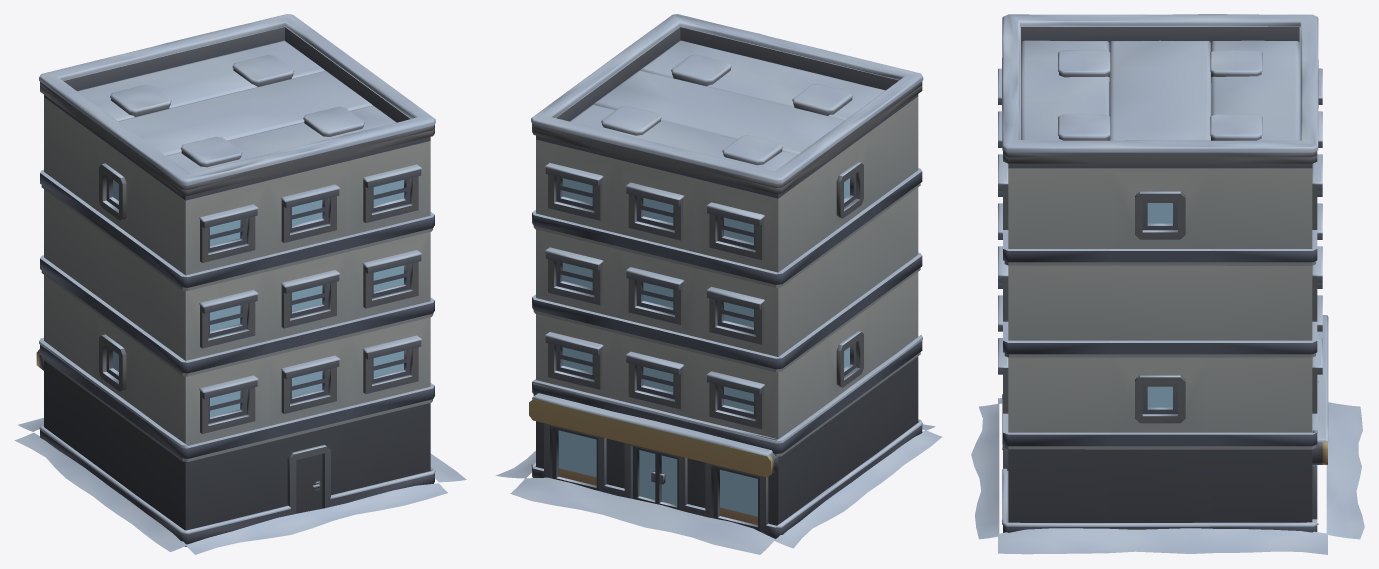
Rendered from bldg_i.glb.
3 renders of one model, left to right at view 1: azimuth 30°, elevation 25°; view 2: azimuth 150°, elevation 25°; view 3: azimuth 270°, elevation 25°, orthographic. The views are drawn at different scales.
Parts seen in each view (by area): view 1: Base, Roof; view 2: Base, Roof; view 3: Base, Roof.
Part boxes in pixels (x1=…): Base: x1=14, y1=31, x2=466, y2=554; Roof: x1=39, y1=14, x2=435, y2=189; Base: x1=495, y1=31, x2=942, y2=554; Roof: x1=531, y1=14, x2=923, y2=187; Base: x1=971, y1=32, x2=1364, y2=554; Roof: x1=1002, y1=14, x2=1318, y2=157.
Size of what is drawn, in the model's own units: 14.03 by 16.36 by 14.75.
